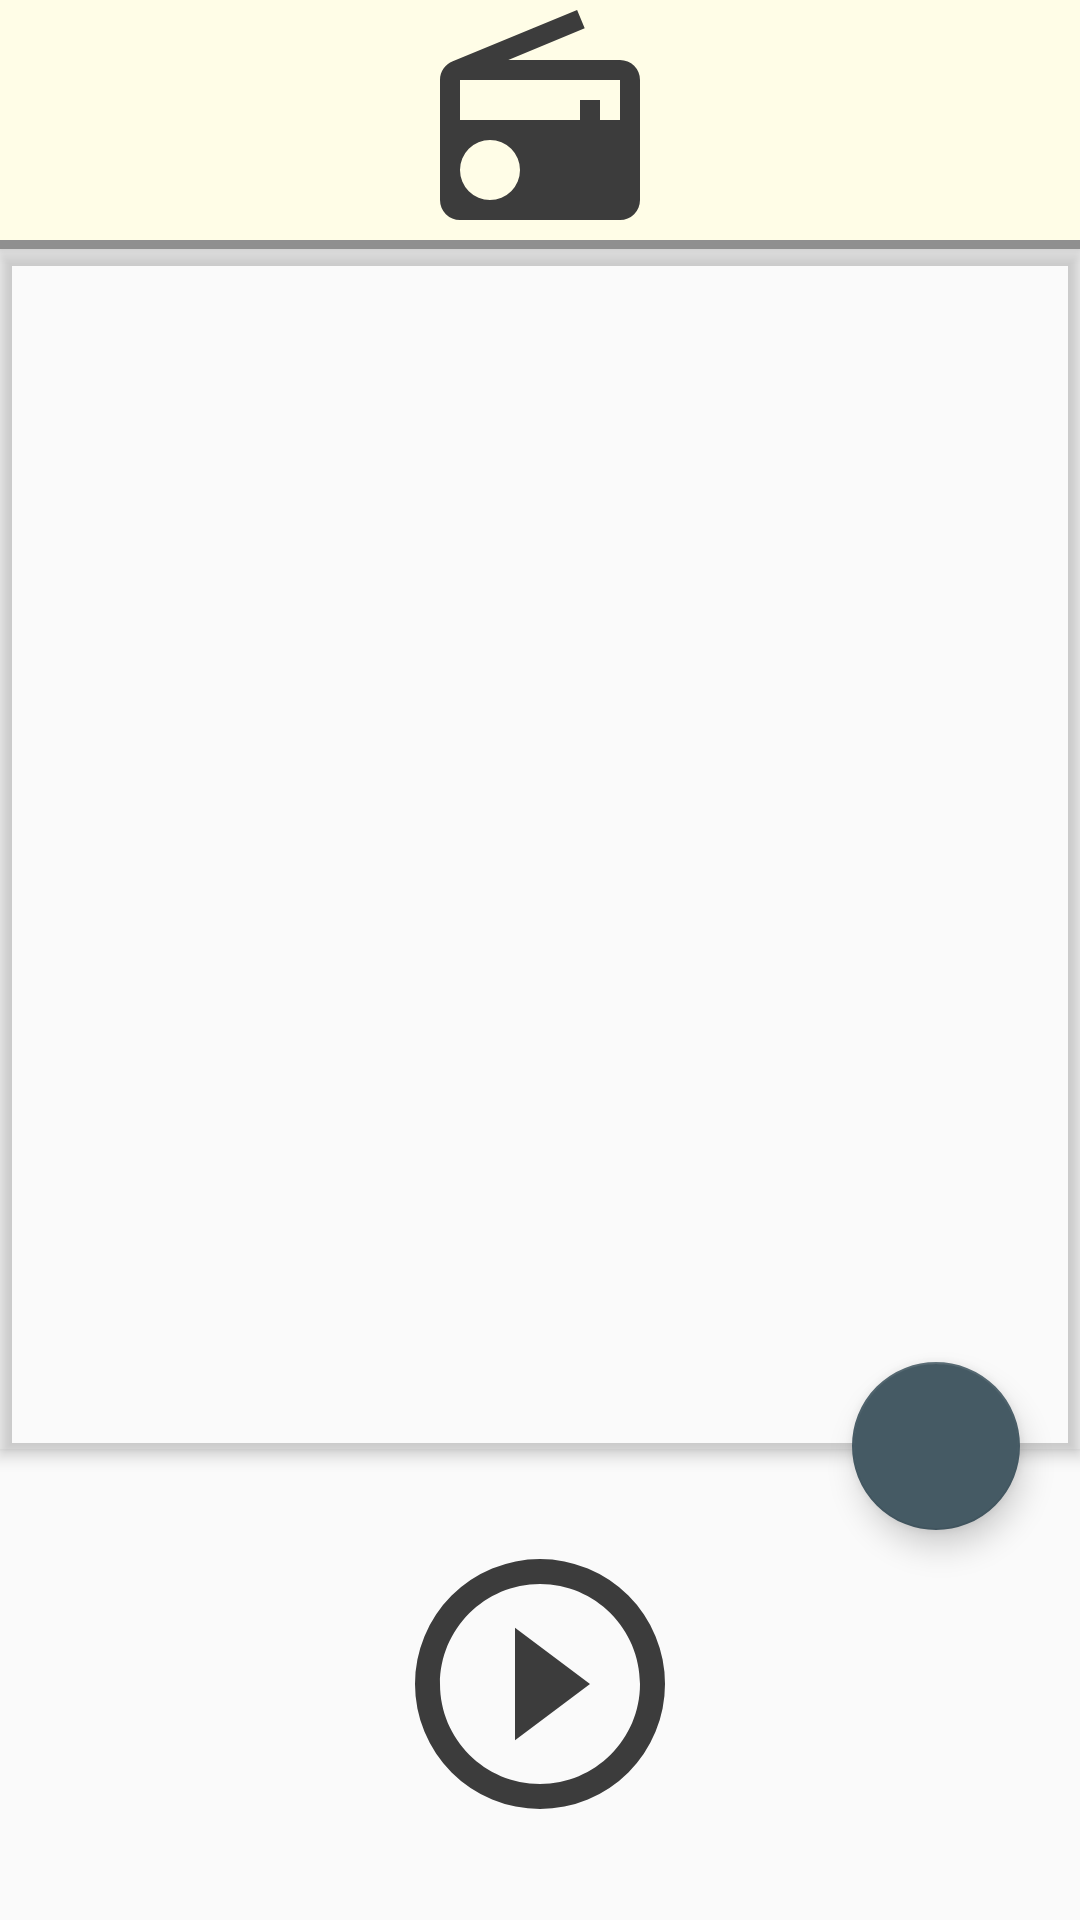

Where to tap for icons on this 1080 x 1920 app screen, as (x,y):
play circle: (540,1684)
radio: (540,115)
